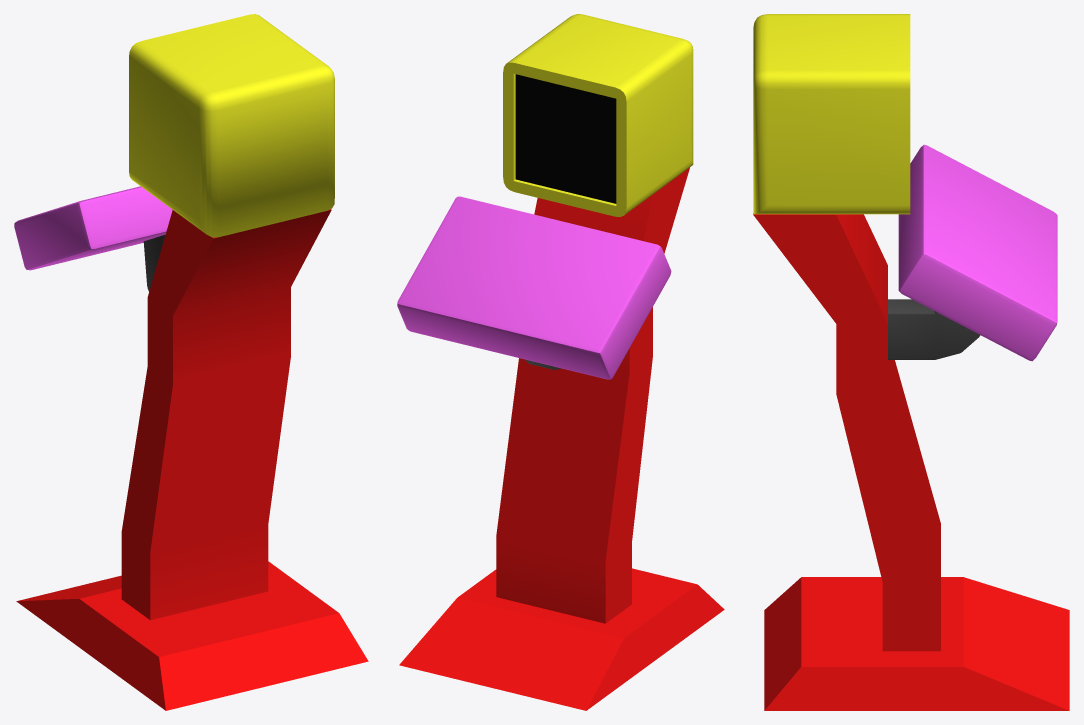
Rendered from ControlPanel.fbx.
3 views of the same model, side by side, from view 1: azimuth 30°, elevation 25°; view 2: azimuth 150°, elevation 25°; view 3: azimuth 270°, elevation 25° (orthographic). The views are drawn at different scales.
Parts seen in each view (by area): view 1: Foot, Screen, Keyboard, KeyboardSupport; view 2: Foot, Keyboard, Screen; view 3: Foot, Screen, Keyboard, KeyboardSupport.
Part boxes in pixels (bbox=[...]): Foot: bbox=[16, 209, 368, 710]; Screen: bbox=[129, 14, 334, 237]; Keyboard: bbox=[14, 186, 172, 270]; KeyboardSupport: bbox=[143, 234, 165, 291]; Foot: bbox=[399, 167, 724, 710]; Keyboard: bbox=[397, 196, 671, 379]; Screen: bbox=[503, 14, 693, 216]; Foot: bbox=[753, 213, 1069, 710]; Screen: bbox=[753, 14, 910, 214]; Keyboard: bbox=[898, 144, 1057, 361]; KeyboardSupport: bbox=[888, 299, 980, 359].
Size of the model in its own units: 19.69 by 51.18 by 23.78.
